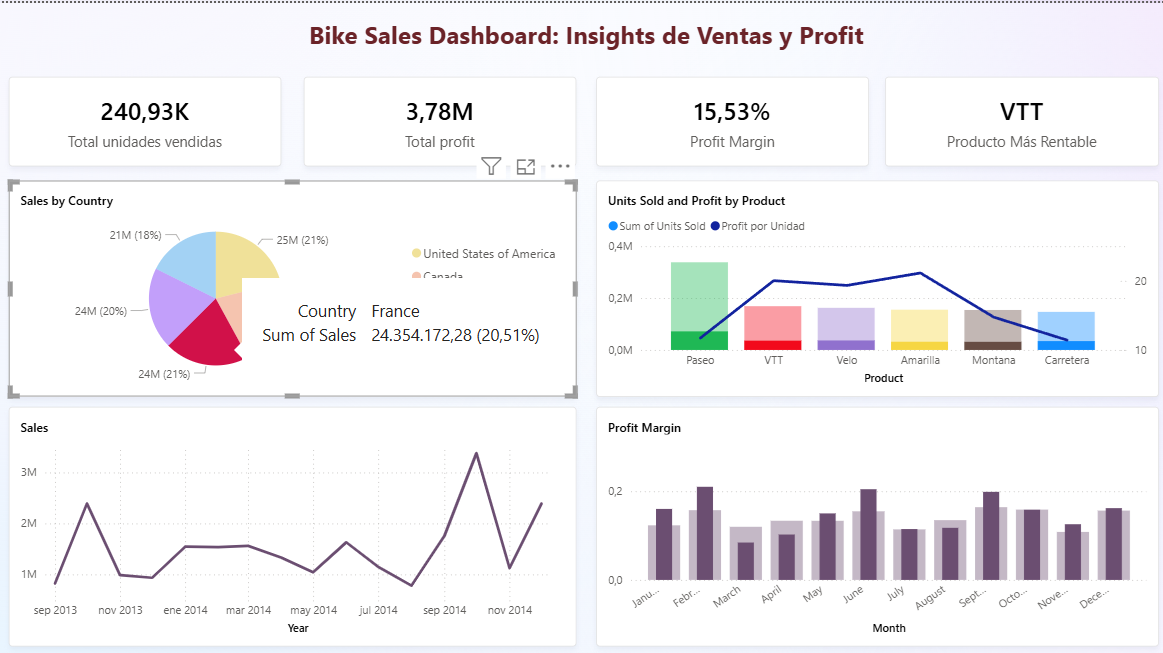

What the dashboard file says about the page in this screenshot:
{"tool":"powerbi","page":{"name":"Page 1","canvas":[1280,720],"ordinal":0},"visuals":[{"type":"card","fields":{"Values":["financials.Total unidades vendidas"]},"box":[9.6,81,299.1,98.8],"z":0},{"type":"card","fields":{"Values":["financials.Total profit"]},"box":[333.4,81,299.1,98.8],"z":1000},{"type":"card","fields":{"Values":["financials.Profit Margin"]},"box":[654.5,81,299.1,98.8],"z":2000},{"type":"card","fields":{"Values":["financials.Producto Más Rentable"]},"box":[971.5,81,300.5,98.8],"z":3000},{"type":"pieChart","title":"Sales by Country","fields":{"Category":["financials.Country"],"Y":["Sum(financials.Sales)"]},"box":[9.6,194.9,623,237.4],"z":4000},{"type":"lineChart","title":"Sales","fields":{"Y":["financials.Ventas diarias"],"Category":["financials.Date.Variation.Date Hierarchy.Year","financials.Date.Variation.Date Hierarchy.Quarter","financials.Date.Variation.Date Hierarchy.Month"]},"box":[9.6,443.2,623,263.5],"z":5000},{"type":"lineClusteredColumnComboChart","title":"Units Sold and Profit by Product","fields":{"Category":["financials.Product"],"Y":["Sum(financials.Units Sold)"],"Y2":["financials.Profit por Unidad"]},"box":[654.5,194.9,617.5,237.4],"z":6000},{"type":"columnChart","title":"Profit Margin","fields":{"Category":["financials.Date.Variation.Date Hierarchy.Month"],"Y":["financials.Profit Margin"]},"box":[654.5,443.2,617.5,263.5],"z":7000},{"type":"textbox","box":[17.8,11,1251.5,46.7],"z":8000}]}

Visuals, with their boxes in screenshot pixels (x1, y1, x2, y2), scaled from the page's 1280x720 canvas onto the 1163x653 screenshot:
card - financials.Total unidades vendidas: [9,73,280,163]
card - financials.Total profit: [303,73,575,163]
card - financials.Profit Margin: [595,73,866,163]
card - financials.Producto Más Rentable: [883,73,1156,163]
"Sales by Country" pieChart: [9,177,575,392]
"Sales" lineChart: [9,402,575,641]
"Units Sold and Profit by Product" lineClusteredColumnComboChart: [595,177,1156,392]
"Profit Margin" columnChart: [595,402,1156,641]
textbox: [16,10,1153,52]
